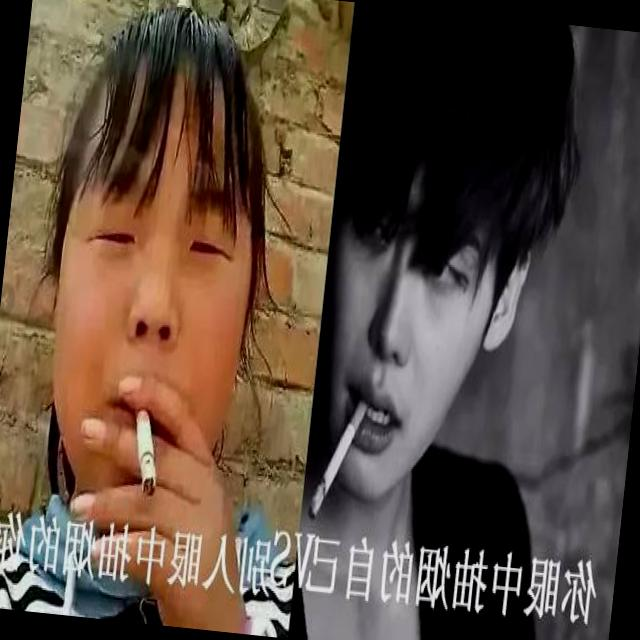cigarette: (126, 404, 163, 498)
